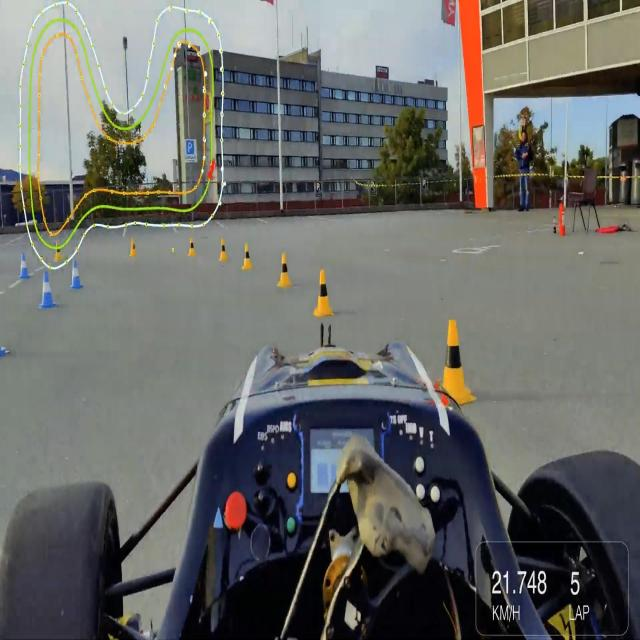blue_cone: (40, 270, 57, 308), (18, 250, 31, 279), (71, 258, 82, 291)
yellow_cone: (439, 310, 475, 398), (314, 265, 334, 319), (277, 250, 291, 288), (241, 239, 253, 272), (218, 236, 229, 262), (53, 239, 63, 264), (187, 236, 196, 259), (130, 235, 137, 258)
